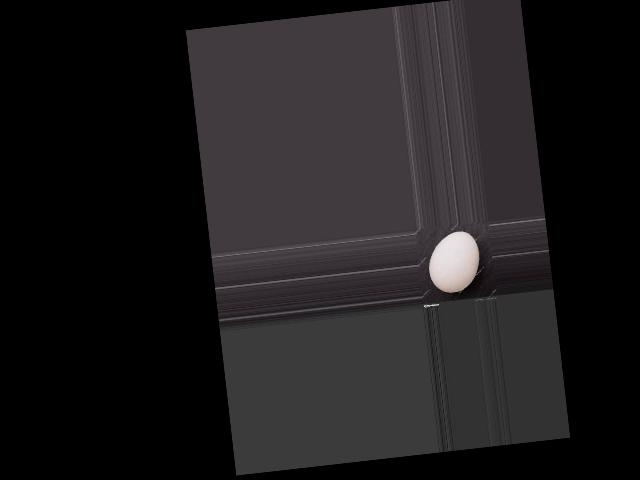egg: (425, 229, 483, 295)
